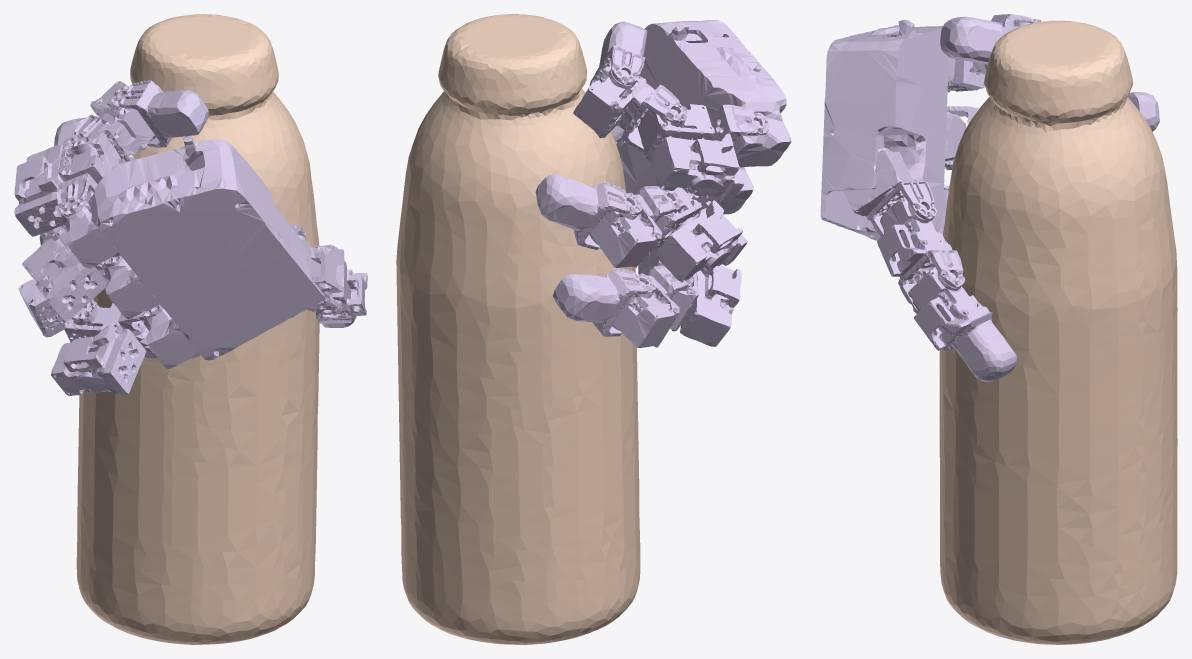
File: a2b8bb62726af9-closed.glb
3 renders of one model, left to right at view 1: azimuth 30°, elevation 25°; view 2: azimuth 150°, elevation 25°; view 3: azimuth 270°, elevation 25°, orthographic.
Visible parts, largest first — view 1: world, LEAP_hand; view 2: world, LEAP_hand; view 3: world, LEAP_hand.
Part boxes in pixels (bbox=[...]): world: bbox=[76, 14, 319, 644]; LEAP_hand: bbox=[14, 80, 367, 396]; world: bbox=[396, 14, 640, 644]; LEAP_hand: bbox=[535, 20, 791, 347]; world: bbox=[939, 20, 1177, 644]; LEAP_hand: bbox=[820, 14, 1159, 381].
Bounding box in the file's own units: 0.2171 × 0.3595 × 0.2051.
